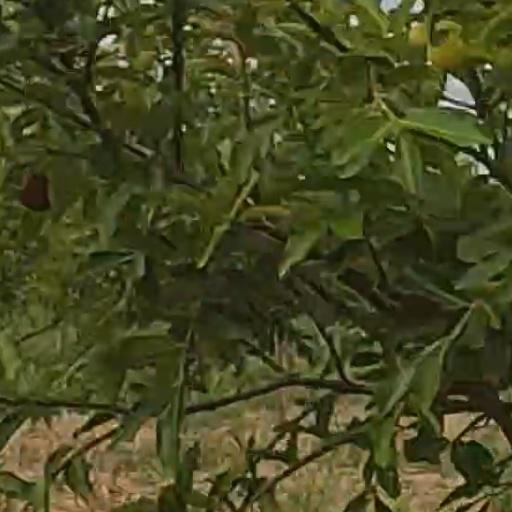acerola: (428, 33, 466, 70), (22, 174, 48, 210)
